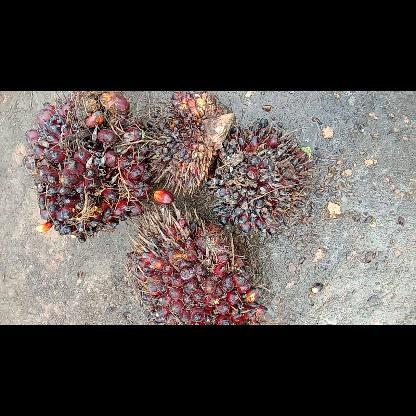Kurang masak: (25, 91, 149, 242)
TBS abnormal: (206, 117, 312, 235), (149, 91, 233, 197)
TBS masak: (126, 202, 266, 324)
